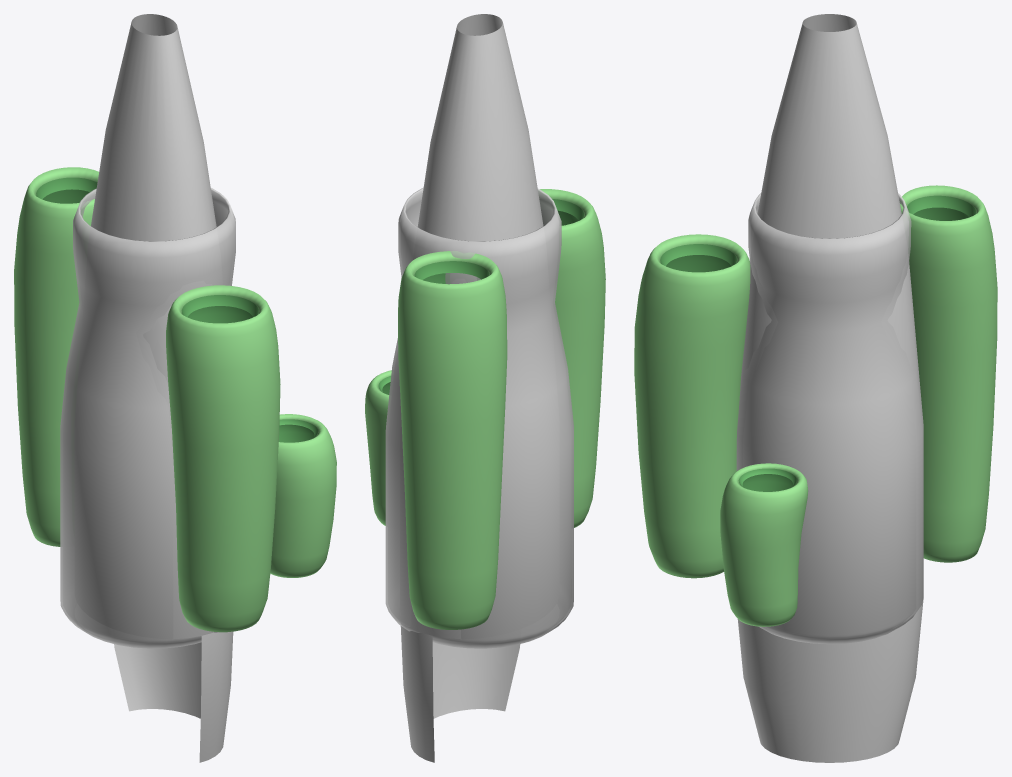
Rendered from corals.fbx.
The picture shows the model from 3 angles, left to right: view 1: azimuth 30°, elevation 25°; view 2: azimuth 150°, elevation 25°; view 3: azimuth 270°, elevation 25°; orthographic projection.
Visible parts, largest first — view 1: Cylinder, Cylinder.002, Cylinder.005, Cylinder.003, Cylinder.004; view 2: Cylinder, Cylinder.003, Cylinder.005, Cylinder.002, Cylinder.004; view 3: Cylinder, Cylinder.005, Cylinder.002, Cylinder.003, Cylinder.004.
Boxes of the visible parts, bbox=[...] form: Cylinder: bbox=[60, 188, 235, 648]; Cylinder.002: bbox=[166, 285, 280, 632]; Cylinder.005: bbox=[91, 14, 233, 762]; Cylinder.003: bbox=[14, 167, 98, 546]; Cylinder.004: bbox=[270, 414, 336, 577]; Cylinder: bbox=[385, 187, 573, 648]; Cylinder.003: bbox=[398, 251, 507, 629]; Cylinder.005: bbox=[400, 14, 543, 762]; Cylinder.002: bbox=[540, 189, 605, 527]; Cylinder.004: bbox=[365, 370, 391, 525]; Cylinder: bbox=[736, 193, 923, 644]; Cylinder.005: bbox=[737, 14, 923, 762]; Cylinder.002: bbox=[634, 234, 750, 578]; Cylinder.003: bbox=[900, 185, 997, 562]; Cylinder.004: bbox=[720, 463, 808, 626].
Bounding box in the file's own units: 275 × 835 × 386.
